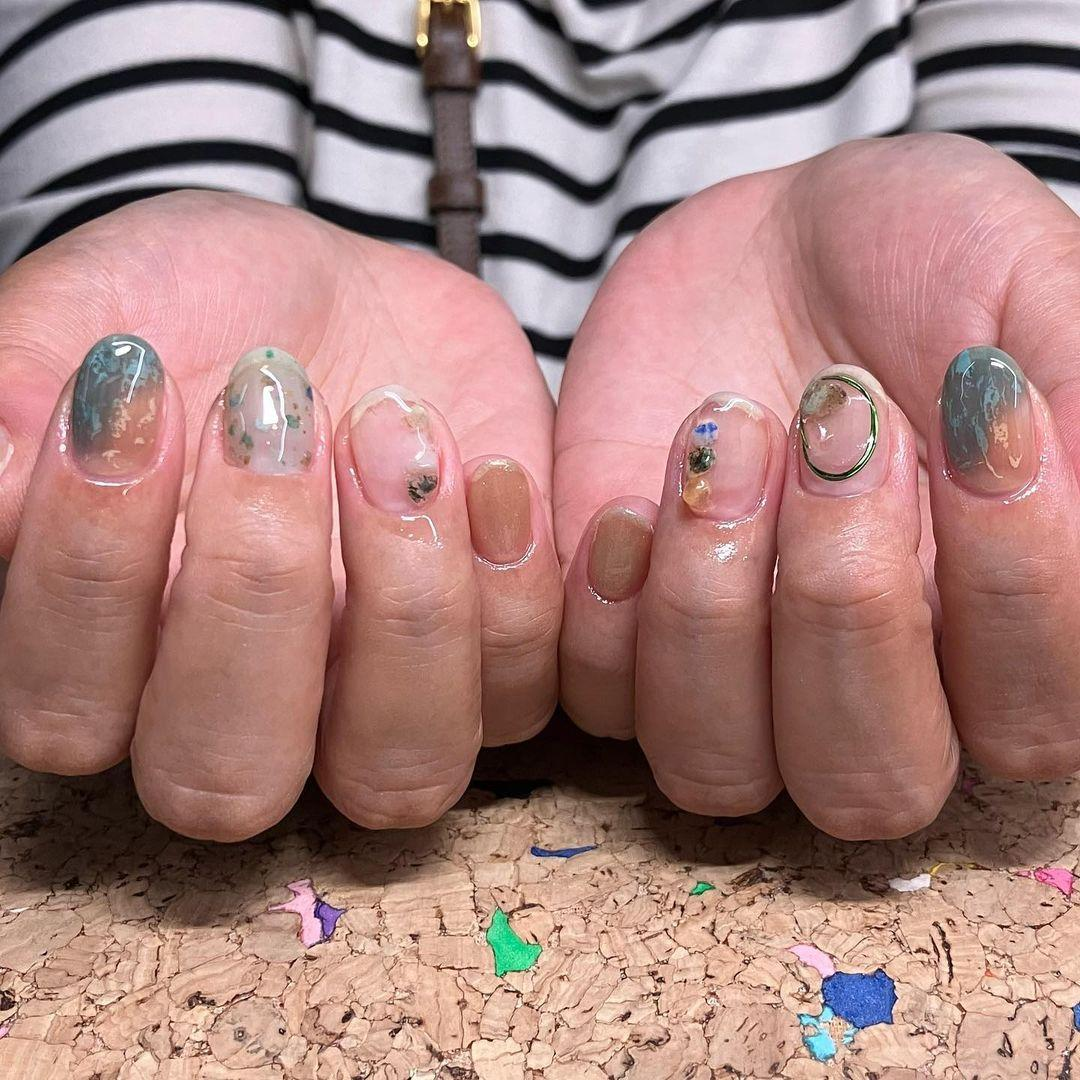nail: (129, 344, 335, 843), (0, 331, 186, 777), (313, 383, 484, 831), (632, 388, 788, 818), (463, 453, 563, 748), (935, 343, 1044, 504), (63, 331, 166, 487), (220, 344, 316, 473), (677, 394, 771, 522), (347, 391, 442, 514), (796, 372, 880, 484), (464, 454, 538, 570), (583, 495, 659, 604)
